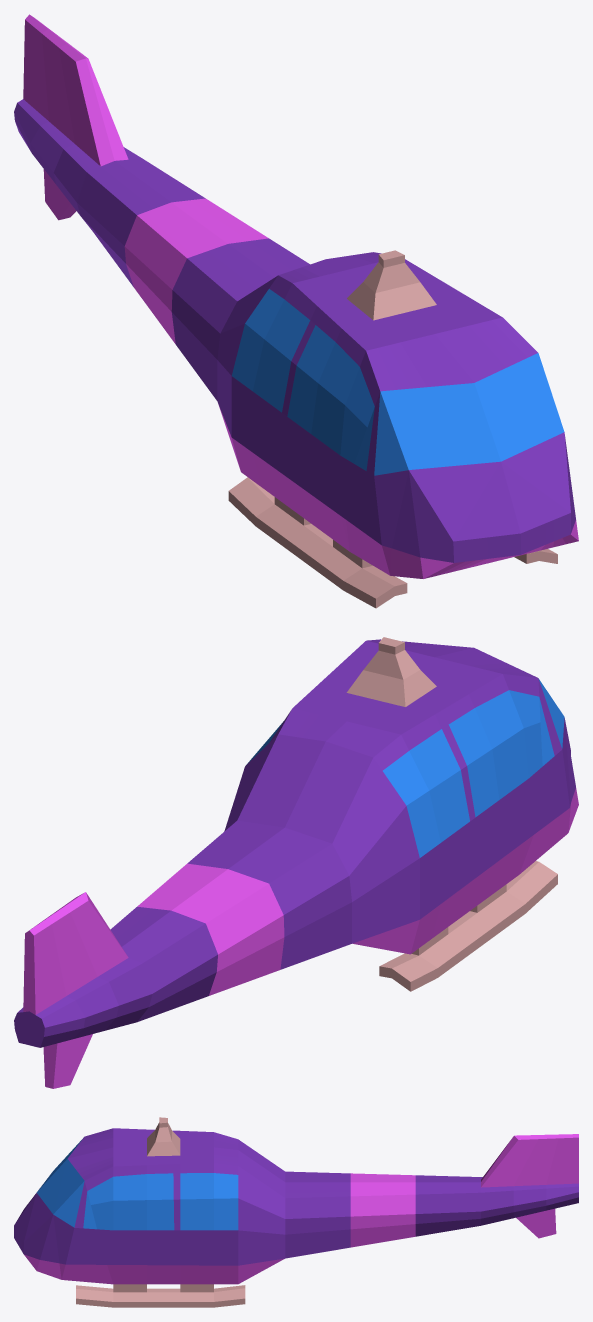
Rendered from heli67_body.obj.
The picture shows the model from 3 angles, top to bottom: view 1: azimuth 30°, elevation 25°; view 2: azimuth 150°, elevation 25°; view 3: azimuth 270°, elevation 25°; orthographic projection. The views are drawn at different scales.
Parts seen in each view (by area): view 1: Cube; view 2: Cube; view 3: Cube.
Part boxes in pixels (x1,y1,x2,y2): Cube: [14, 14, 578, 608]; Cube: [14, 637, 578, 1088]; Cube: [14, 1117, 578, 1307].
Size of the model in its own units: 2 by 2.86 by 9.05.
